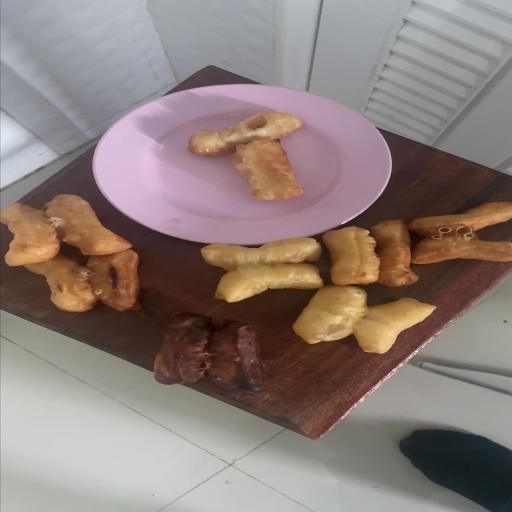street_burnt_defect: (151, 314, 264, 392), (24, 253, 142, 312)
street_golden_good: (202, 237, 324, 301)
